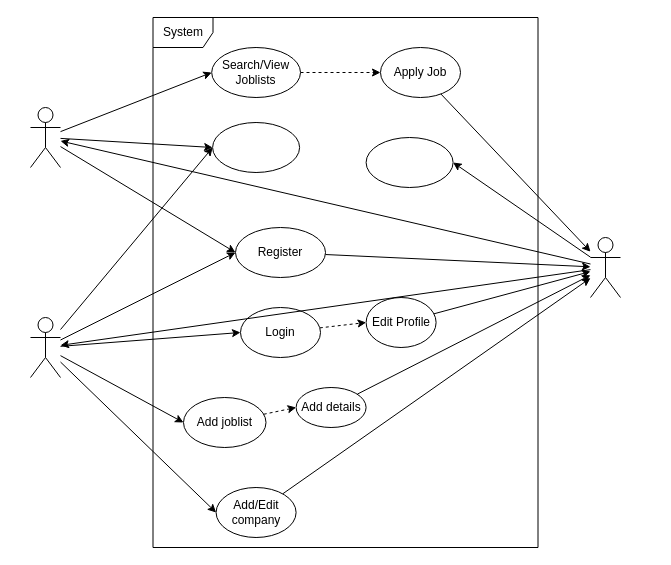
The diagram is 671 pixels wide and 565 high, and some of its shapes have lost their labels. The box of each missing label's shape, as (x1, y1, x2, y2) in pixels:
Employers: (30, 316, 60, 378)
Internship System: (590, 236, 620, 298)
List company profiles: (365, 136, 453, 188)
Users: (30, 106, 60, 168)
View company profiles: (212, 122, 300, 172)
